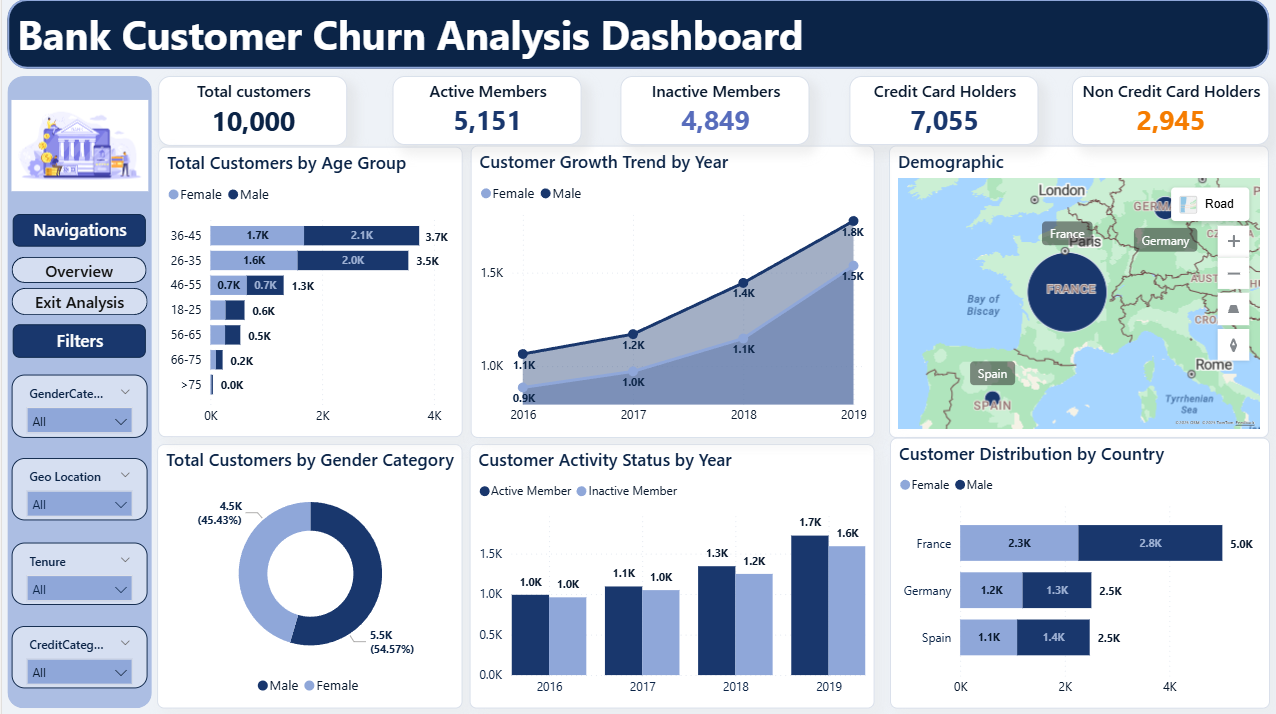

Layout of this report page (visuals, bound fields, positions):
{"tool":"powerbi","page":{"name":"Total Analysis","canvas":[1280,720],"ordinal":0},"visuals":[{"type":"group","id":"g1","title":"Group 1","box":[5.5,77.6,145.3,634.8],"z":0,"group":"g2"},{"type":"shape","box":[5.5,77.6,145.3,634.8],"z":0,"group":"g1"},{"type":"card","title":"Total customers","fields":{"Values":["Dax Measures.TotalCustomers"]},"box":[157.3,77.6,190.1,69.9],"z":0},{"type":"image","box":[1.1,96.7,153.3,101.1],"z":1000,"group":"g2"},{"type":"donutChart","title":"Total Customers by Gender Category","fields":{"Y":["Dax Measures.TotalCustomers"],"Category":["Gender.GenderCategory"]},"box":[156.2,446.8,307,265.5],"z":1000},{"type":"azureMap","title":"Demographic","fields":{"Size":["Dax Measures.TotalCustomers"],"Category":["Geography.GeographyLocation"]},"box":[891,147,381,293],"z":2000},{"type":"textbox","title":"Navigations","box":[11,216.4,133.3,32.8],"z":2000,"group":"g1"},{"type":"clusteredColumnChart","title":"Customer Activity Status by Year","fields":{"Category":["DateTable.Year","Gender.GenderCategory"],"Y":["Dax Measures.TotalCustomers"],"Series":["Active customers.ActiveCategory"]},"box":[469.8,446.8,406.4,265.5],"z":3000},{"type":"actionButton","title":"Total Analysis","box":[10.3,258.6,135.5,26.2],"z":4000,"group":"g1"},{"type":"barChart","title":"Customer Distribution by Country","fields":{"Category":["Geography.GeographyLocation"],"Y":["Dax Measures.TotalCustomers"],"Series":["Gender.GenderCategory"]},"box":[891.5,440.3,381.3,272],"z":4000},{"type":"barChart","title":"Total Customers by Age Group","fields":{"Y":["Dax Measures.TotalCustomers"],"Category":["Bank_Churn.Age Group"],"Series":["Gender.GenderCategory"]},"box":[157,148,306,292],"z":5000},{"type":"areaChart","title":"Customer Growth Trend by Year","fields":{"Category":["DateTable.Year"],"Y":["Dax Measures.TotalCustomers"],"Series":["Gender.GenderCategory"]},"box":[470,147,406,293],"z":6000},{"type":"actionButton","title":"Exit Analysis","box":[9.9,290.6,136.6,27.3],"z":6000,"group":"g1"},{"type":"card","title":"Active Members","fields":{"Values":["Dax Measures.Active Members"]},"box":[392.2,77.6,190.1,68.8],"z":7000},{"type":"card","title":"Non Credit Card Holders","fields":{"Values":["Dax Measures.NonCreditCardHolders"]},"box":[1073.9,77.6,197.7,68.8],"z":8000},{"type":"slicer","fields":{"Values":["Gender.GenderCategory"]},"box":[9.9,377,136.6,63.4],"z":8000,"group":"g1"},{"type":"card","title":"Credit Card Holders","fields":{"Values":["Dax Measures.CreditCardHolders"]},"box":[851.1,77.6,190.1,68.8],"z":9000},{"type":"card","title":"Inactive Members","fields":{"Values":["Dax Measures.Inactive Members"]},"box":[620.6,77.6,190.1,68.8],"z":10000},{"type":"slicer","fields":{"Values":["Geography.GeographyLocation"]},"box":[9.9,461.1,136.6,62.3],"z":10000,"group":"g1"},{"type":"group","id":"g2","title":"Group 2","box":[1.1,77.6,153.3,634.8],"z":11000},{"type":"shape","title":"Customer Overview & Demographics","box":[5,0,1267,70],"z":12000},{"type":"slicer","fields":{"Values":["Bank_Churn.Tenure"]},"box":[9.9,546.3,136.6,62.3],"z":12000,"group":"g1"},{"type":"slicer","fields":{"Values":["Credit card.CreditCategory"]},"box":[9.9,629.3,136.6,62.3],"z":14000,"group":"g1"},{"type":"textbox","title":"Filters","box":[11,326.7,133.3,33.9],"z":15000,"group":"g1"}]}

Visuals, with their boxes in screenshot pixels (x1, y1, x2, y2), scaled from the page's 1280x720 canvas onto the 1276x714 screenshot:
"Group 1" group: [left=5, top=77, right=150, bottom=706]
shape: [left=5, top=77, right=150, bottom=706]
"Total customers" card: [left=157, top=77, right=346, bottom=146]
image: [left=1, top=96, right=154, bottom=196]
"Total Customers by Gender Category" donutChart: [left=156, top=443, right=462, bottom=706]
"Demographic" azureMap: [left=888, top=146, right=1268, bottom=436]
"Navigations" textbox: [left=11, top=215, right=144, bottom=247]
"Customer Activity Status by Year" clusteredColumnChart: [left=468, top=443, right=873, bottom=706]
"Total Analysis" actionButton: [left=10, top=256, right=145, bottom=282]
"Customer Distribution by Country" barChart: [left=889, top=437, right=1269, bottom=706]
"Total Customers by Age Group" barChart: [left=157, top=147, right=462, bottom=436]
"Customer Growth Trend by Year" areaChart: [left=469, top=146, right=873, bottom=436]
"Exit Analysis" actionButton: [left=10, top=288, right=146, bottom=315]
"Active Members" card: [left=391, top=77, right=580, bottom=145]
"Non Credit Card Holders" card: [left=1071, top=77, right=1268, bottom=145]
slicer - Gender.GenderCategory: [left=10, top=374, right=146, bottom=437]
"Credit Card Holders" card: [left=848, top=77, right=1038, bottom=145]
"Inactive Members" card: [left=619, top=77, right=808, bottom=145]
slicer - Geography.GeographyLocation: [left=10, top=457, right=146, bottom=519]
"Group 2" group: [left=1, top=77, right=154, bottom=706]
"Customer Overview & Demographics" shape: [left=5, top=0, right=1268, bottom=69]
slicer - Bank_Churn.Tenure: [left=10, top=542, right=146, bottom=604]
slicer - Credit card.CreditCategory: [left=10, top=624, right=146, bottom=686]
"Filters" textbox: [left=11, top=324, right=144, bottom=358]
